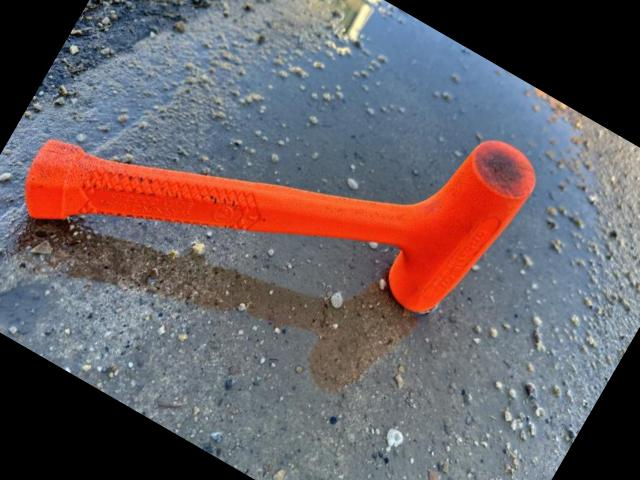hammer: (6, 0, 545, 425)
